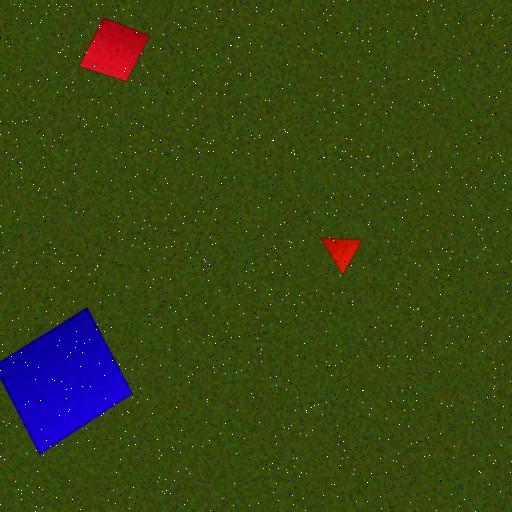BLUE_SQUARE: (0, 306, 134, 456)
RED_SQUARE: (78, 17, 152, 82)
